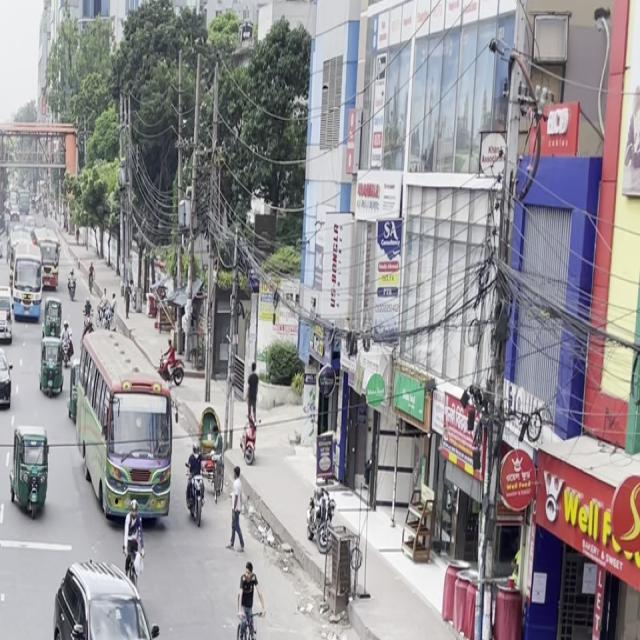bicycle: (120, 518, 149, 609), (230, 601, 268, 640)
bus: (77, 329, 175, 527)
car: (47, 557, 174, 640), (0, 342, 15, 416), (305, 634, 472, 640), (0, 296, 15, 346)
motorbike: (184, 452, 209, 526)
rickshaw: (7, 416, 55, 526), (38, 340, 64, 402)
